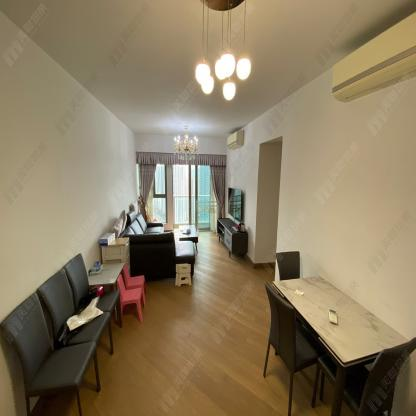AC: (331, 11, 416, 104), (227, 130, 244, 150)
Dining Table: (272, 275, 410, 367)
Sofa: (119, 210, 195, 280)
TV: (227, 187, 242, 222)
